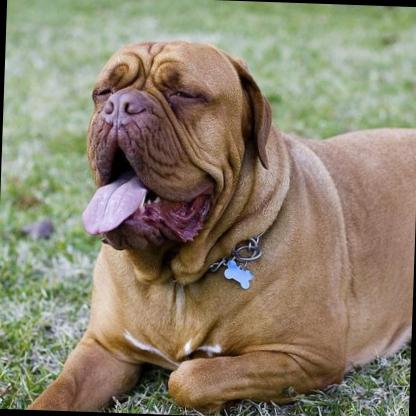bull_mastiff: (25, 33, 416, 416)
